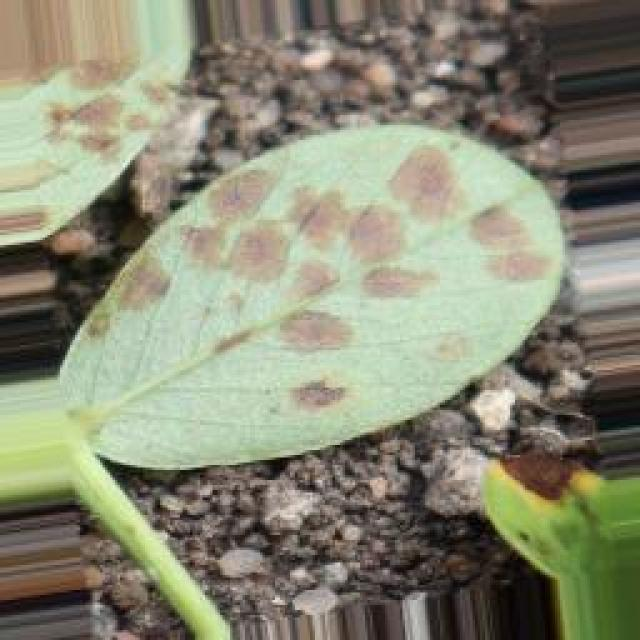Whitefly: (0, 40, 570, 482)
